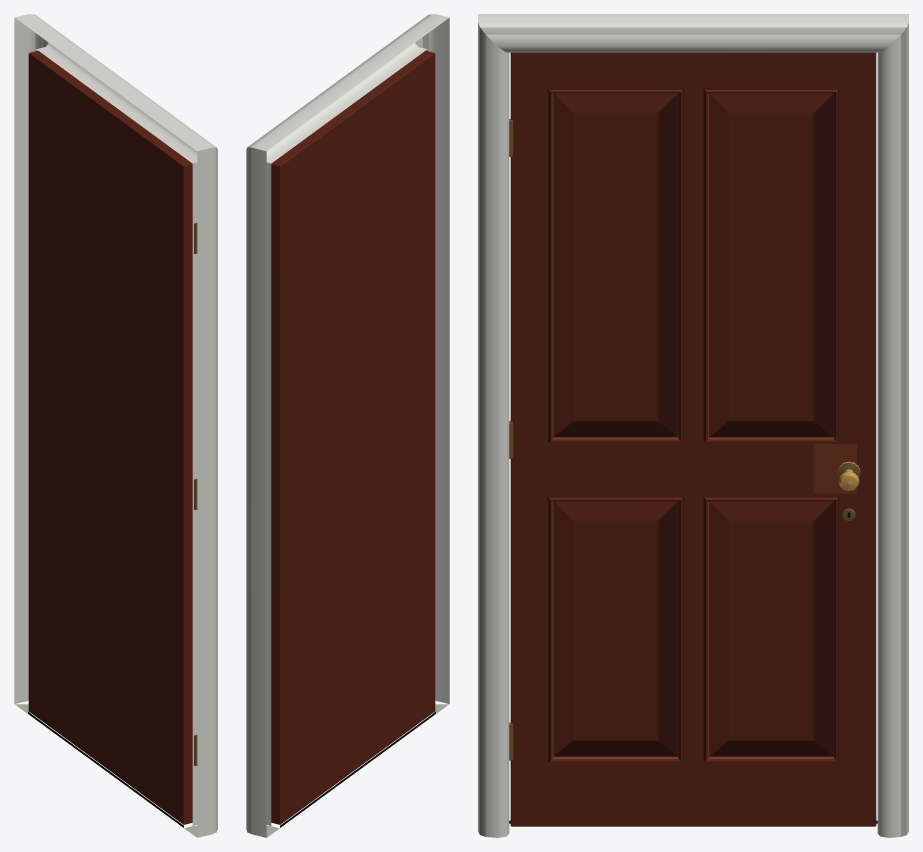
The model's file is door_mahogany.glb.
3 views of the same model, side by side, from view 1: azimuth 30°, elevation 25°; view 2: azimuth 150°, elevation 25°; view 3: azimuth 270°, elevation 25° (orthographic). The views are drawn at different scales.
Visible parts, largest first — view 1: tuer; view 2: tuer; view 3: tuer.
Boxes of the visible parts, box(x1,y1,x2,y2) form: tuer: box(14, 14, 217, 837); tuer: box(246, 14, 449, 837); tuer: box(478, 14, 908, 837).
Bounding box in the file's own units: 0.112 × 2.28 × 1.1.
